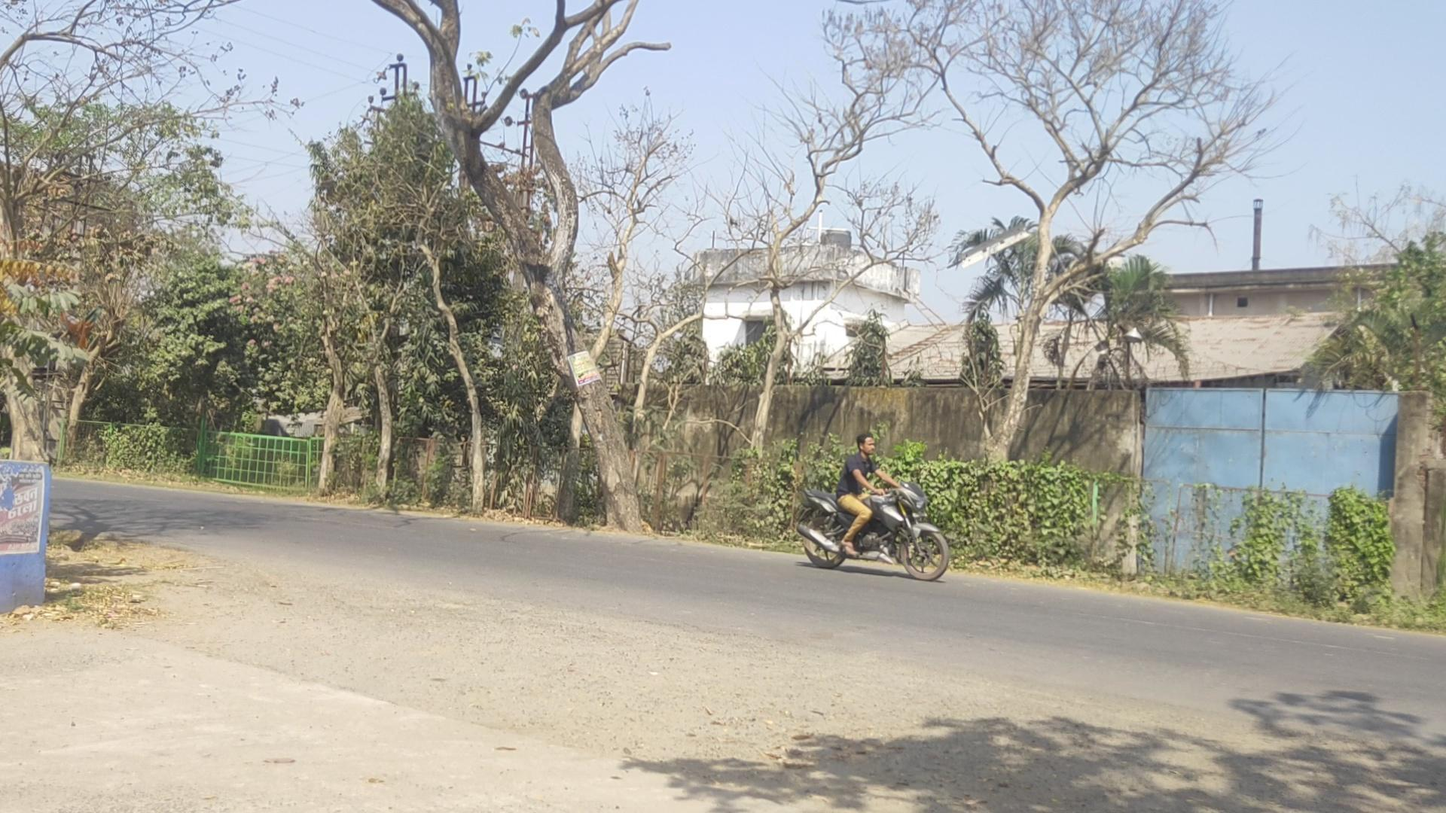bike: (797, 433, 950, 582)
